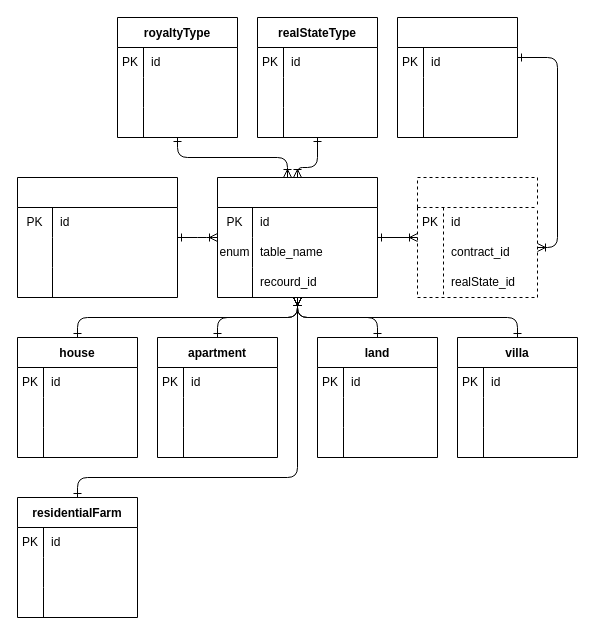
The diagram is 595 pixels wide and 635 high, and some of its shapes have lost their labels. The shapes that lost their labels are listed below. From the top down, each one's box as (x1, y1, x2, y2) in pixels, then its label:
(396, 16, 518, 138): contract
(16, 176, 178, 298): user
(216, 176, 378, 298): ad
(416, 176, 538, 298): contracRealState
